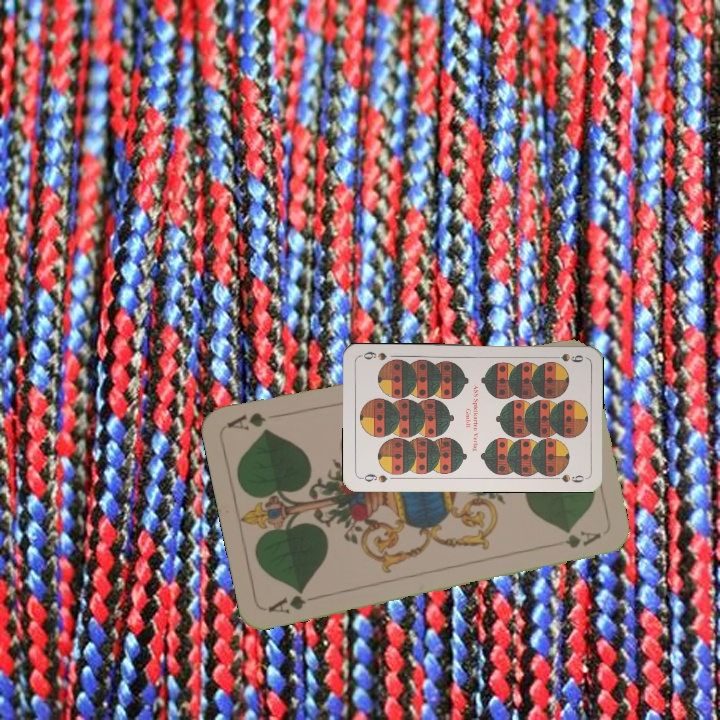GA: (264, 586, 322, 617)
S9: (546, 349, 586, 365), (357, 470, 390, 485)
